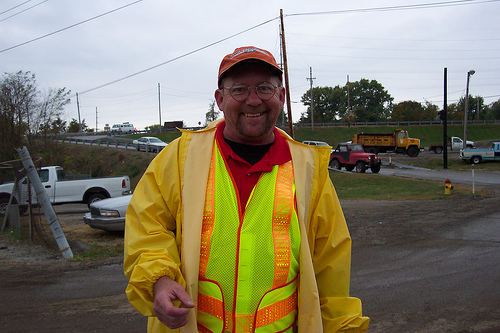without_mask: (213, 66, 290, 139)
